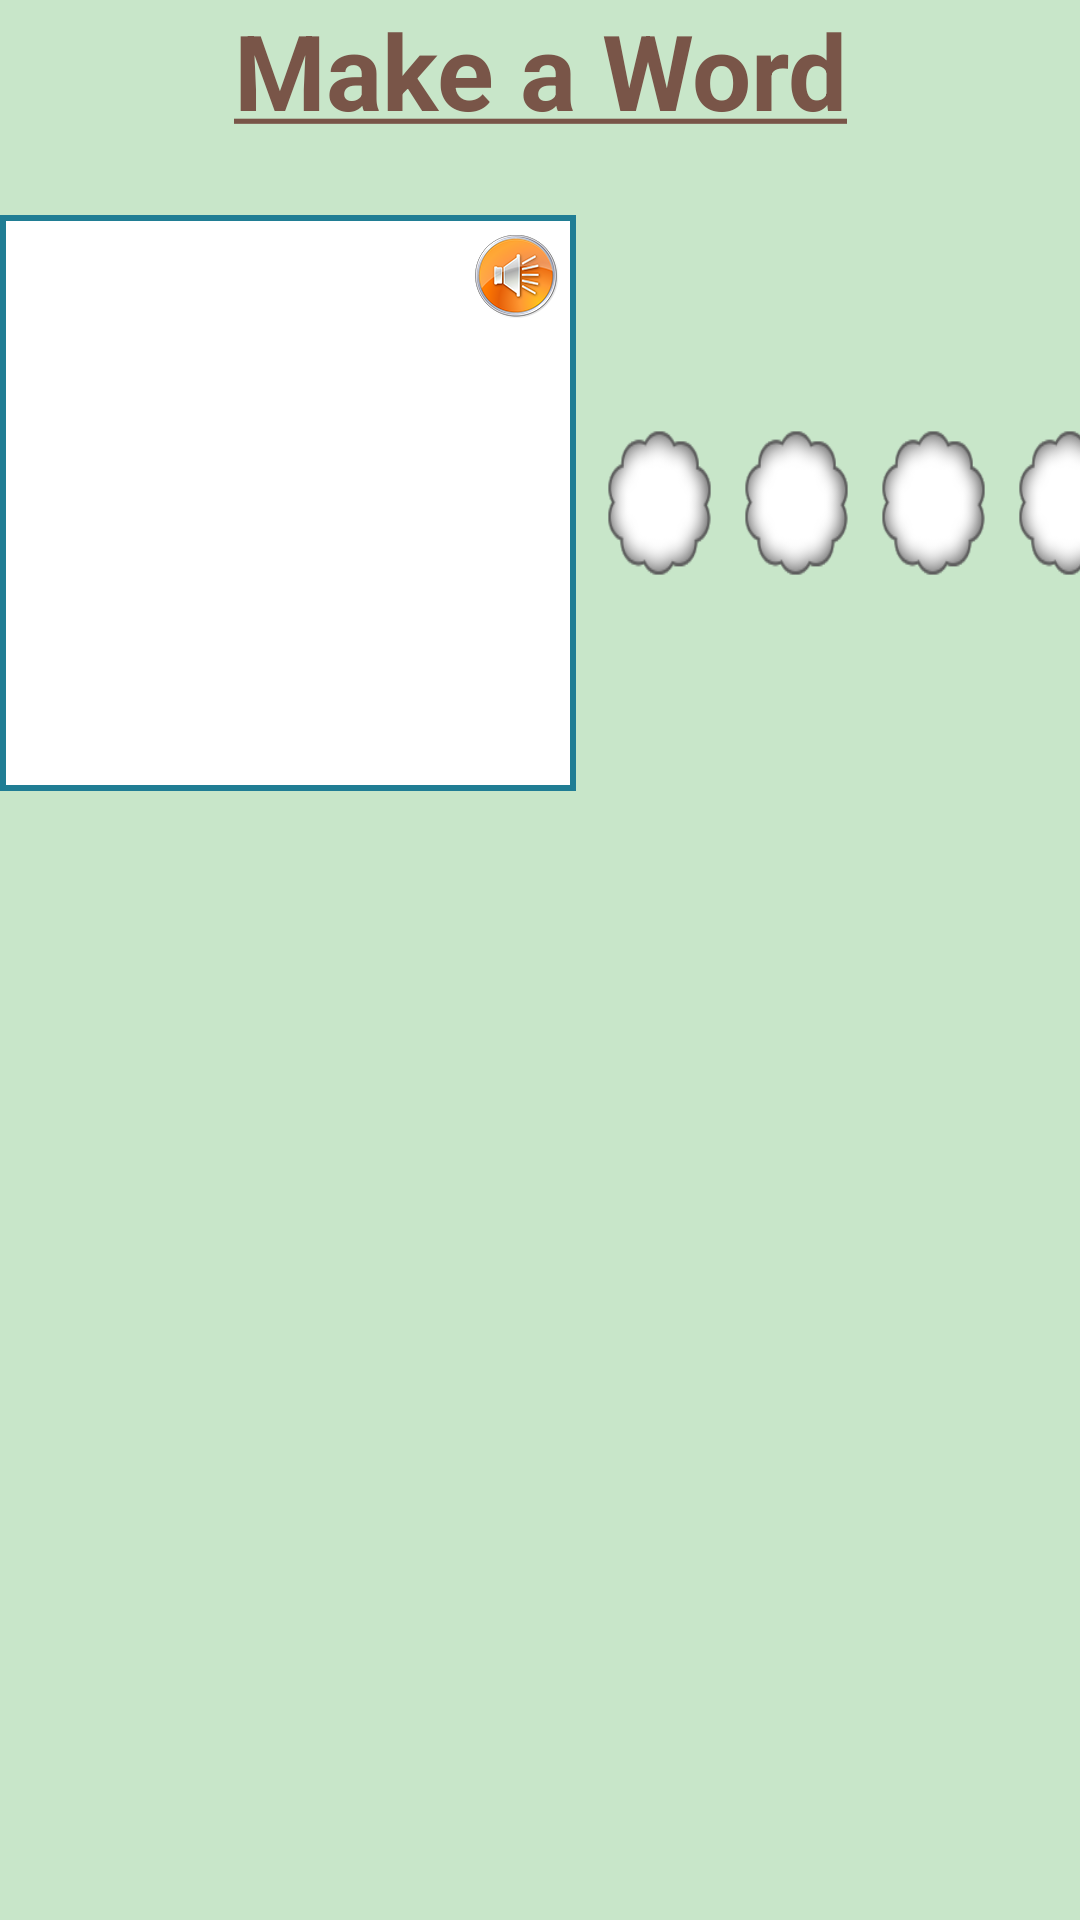

Where to tap for icons on this 1080x1920 app screen, as (x=x, y=y):
sound: (x=516, y=276)
